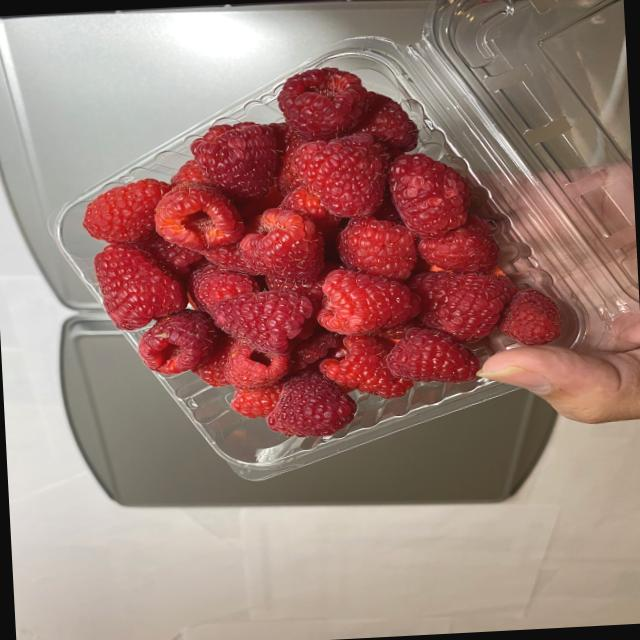raspberries: (97, 130, 551, 430)
